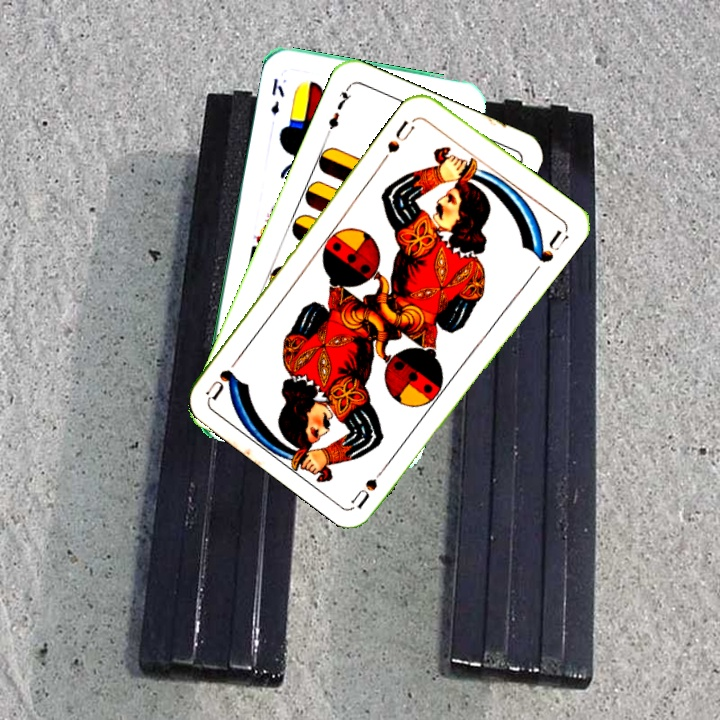E7: (322, 82, 355, 138)
EK: (267, 74, 287, 117)
SU: (348, 457, 393, 509), (383, 116, 418, 156)
